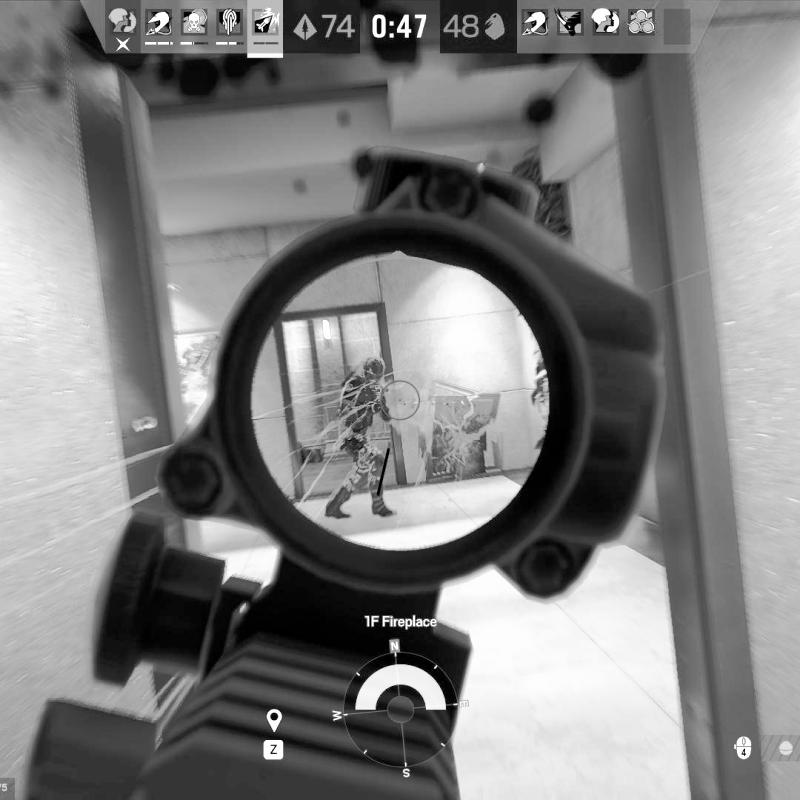Character: (322, 354, 397, 521)
Head: (361, 354, 387, 384)
